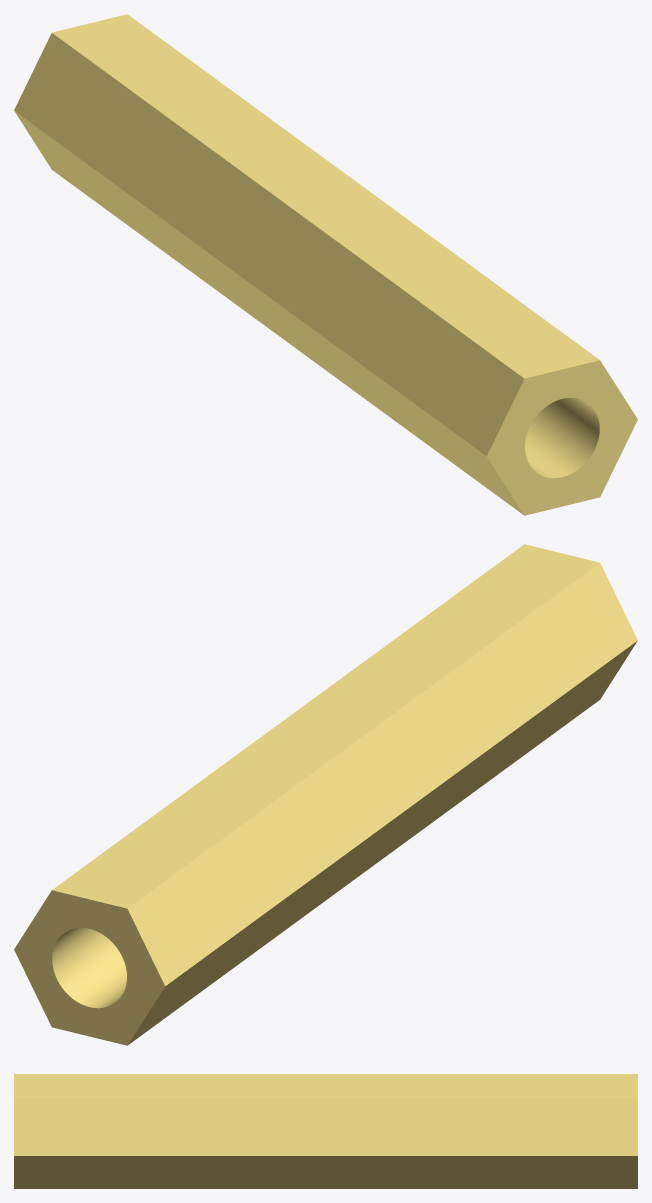
The model's file is spacer_hex.gltf.
The picture shows the model from 3 angles, top to bottom: view 1: azimuth 30°, elevation 25°; view 2: azimuth 150°, elevation 25°; view 3: azimuth 270°, elevation 25°; orthographic projection. The views are drawn at different scales.
Parts seen in each view (by area): view 1: spacer_hex; view 2: spacer_hex; view 3: spacer_hex.
Part boxes in pixels (x1,y1,x2,y2): spacer_hex: [14, 14, 637, 515]; spacer_hex: [14, 544, 637, 1045]; spacer_hex: [14, 1074, 637, 1188].
Size of the model in its own units: 0.00647 by 0.0056 by 0.035.
